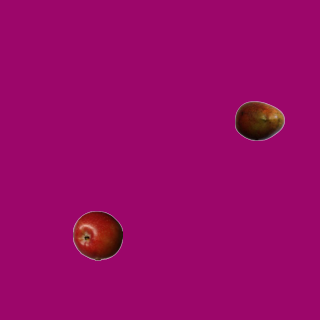Apple Braeburn: (72, 210, 122, 260)
Mango Red: (234, 95, 284, 145)
